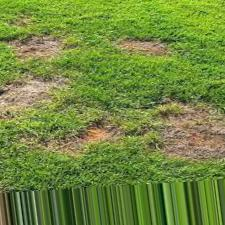patch: (164, 110, 211, 152), (5, 81, 53, 113), (13, 40, 60, 66), (118, 37, 175, 58), (77, 125, 121, 147)
